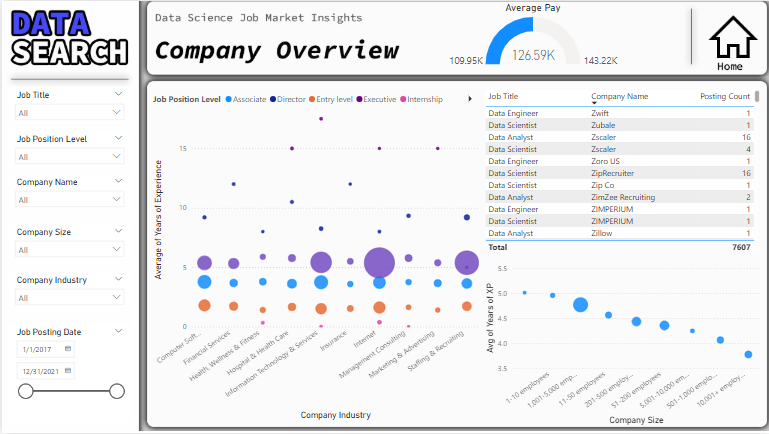

Layout of this report page (visuals, bound fields, positions):
{"tool":"powerbi","page":{"name":"Company","canvas":[1280,720],"ordinal":3},"visuals":[{"type":"slicer","fields":{"Values":["Job Postings.Job Title"]},"box":[11.7,143.3,201.7,60],"z":0},{"type":"slicer","fields":{"Values":["Job Postings.Job Position Level"]},"box":[11.7,216.7,201.7,60],"z":1000},{"type":"slicer","fields":{"Values":["Job Postings.Company Name"]},"box":[11.7,288.3,201.7,60],"z":2000},{"type":"slicer","fields":{"Values":["Job Postings.Company Size"]},"box":[11.7,371.7,201.7,60],"z":3000},{"type":"slicer","fields":{"Values":["Job Postings.Company Industry"]},"box":[11.7,451.7,201.7,60],"z":4000},{"type":"slicer","fields":{"Values":["Job Postings.Job Posting Date"]},"box":[11.7,538.3,201.7,165],"z":5000},{"type":"scatterChart","fields":{"X":["Job Postings.Company Industry"],"Y":["Avg(Job Postings.Years of Experience)"],"Size":["__Measurses.Posting Count"],"Series":["Job Postings.Job Position Level"]},"box":[246.7,143.3,553.3,560],"z":5001},{"type":"tableEx","fields":{"Values":["Job Postings.Job Title","Job Postings.Company Name","__Measurses.Posting Count"]},"box":[800,143.3,468.3,280],"z":5002},{"type":"scatterChart","fields":{"Y":["Avg(Job Postings.Years of Experience)"],"X":["Job Postings.Company Size"],"Size":["__Measurses.Posting Count"]},"box":[800,431.7,468.3,280],"z":5003},{"type":"gauge","title":"Average  Pay","fields":{"Y":["__Measurses.Average of Avg Pay"],"MaxValue":["Avg(Job Postings.Maximum Pay)"],"MinValue":["Avg(Job Postings.Minimum Pay)"]},"box":[735,0,300,118.3],"z":5004},{"type":"image","box":[1168.3,13.3,100,93.3],"z":5005}]}

Visuals, with their boxes in screenshot pixels (x1, y1, x2, y2), scaled from the page's 1280x720 canvas onto the 769x434 screenshot:
slicer - Job Postings.Job Title: l=7, t=86, r=128, b=123
slicer - Job Postings.Job Position Level: l=7, t=131, r=128, b=167
slicer - Job Postings.Company Name: l=7, t=174, r=128, b=210
slicer - Job Postings.Company Size: l=7, t=224, r=128, b=260
slicer - Job Postings.Company Industry: l=7, t=272, r=128, b=308
slicer - Job Postings.Job Posting Date: l=7, t=324, r=128, b=424
scatterChart - Job Postings.Company Industry x Avg(Job Postings.Years of Experience): l=148, t=86, r=481, b=424
tableEx - Job Postings.Job Title x Job Postings.Company Name: l=481, t=86, r=762, b=255
scatterChart - Avg(Job Postings.Years of Experience) x Job Postings.Company Size: l=481, t=260, r=762, b=429
"Average  Pay" gauge: l=442, t=0, r=622, b=71
image: l=702, t=8, r=762, b=64
